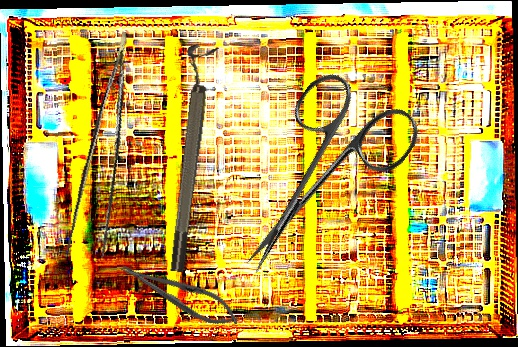Fixation Ring: (156, 43, 220, 274)
Iris Scissors: (203, 57, 428, 306)
Needle Holder: (115, 252, 245, 336)
Tissue Forceps: (57, 31, 165, 269)
